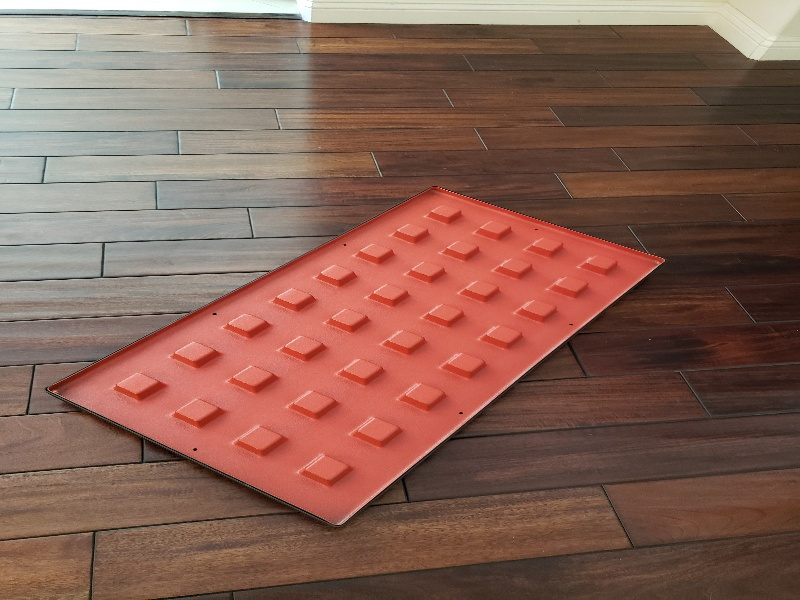ftc_base: (40, 181, 675, 532)
